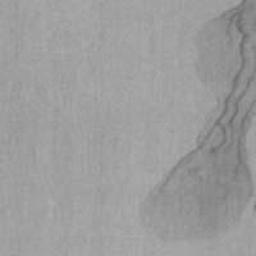Water spot: (136, 0, 256, 247)
